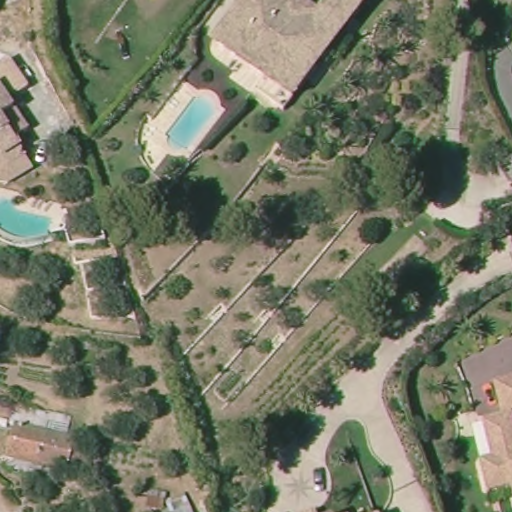pool: (163, 91, 223, 155), (1, 189, 59, 247)
